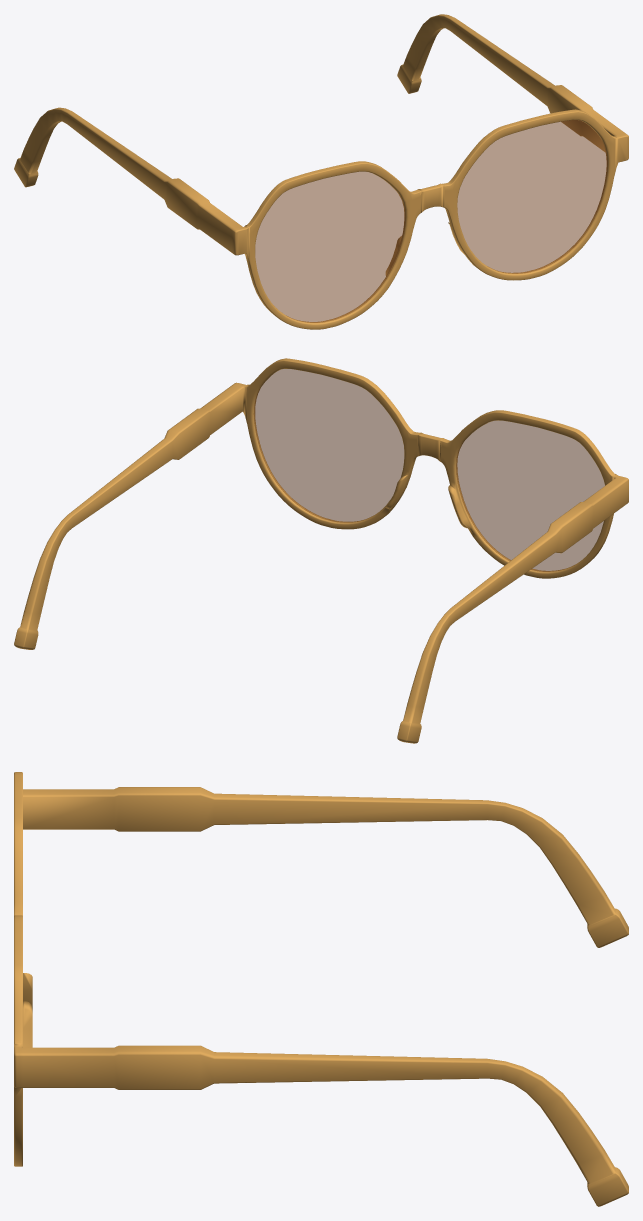
3 renders of one model, top to bottom at view 1: azimuth 30°, elevation 25°; view 2: azimuth 150°, elevation 25°; view 3: azimuth 270°, elevation 25°, orthographic. The views are drawn at different scales.
Parts seen in each view (by area): view 1: f11; view 2: f11; view 3: f11.
Part boxes in pixels (box(x1,y1,x2,y2)): f11: box(14, 14, 628, 329); f11: box(14, 358, 628, 743); f11: box(14, 772, 628, 1206).
Bounding box in the file's own units: 13.88 × 5.31 × 13.51.
